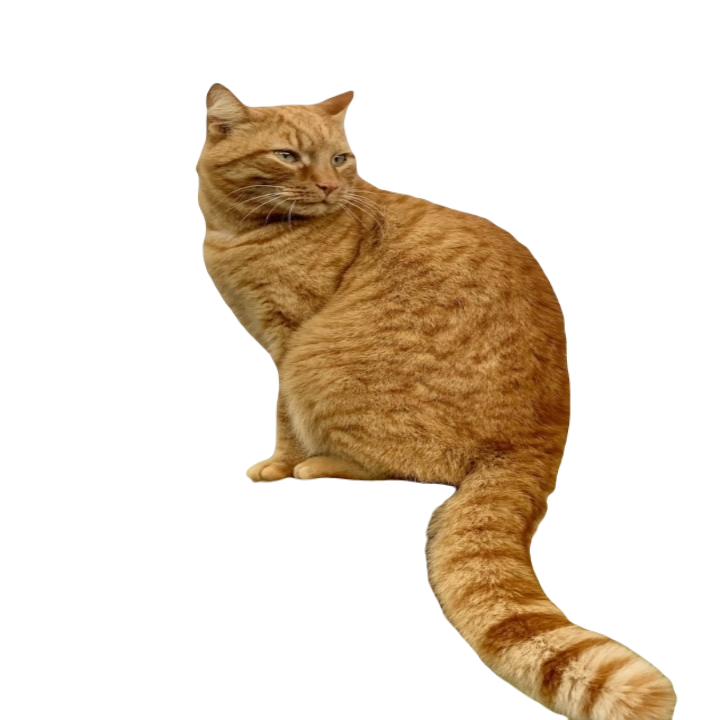Cat: (183, 79, 672, 718)
